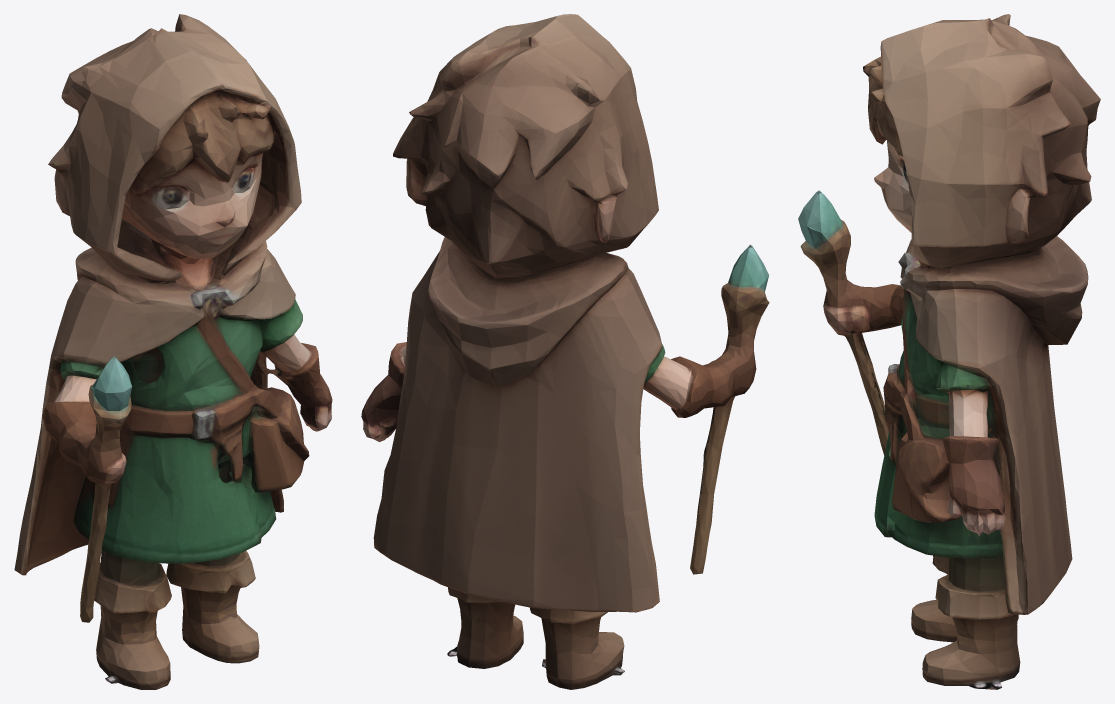
The model's file is Zelda.glb.
3 views of the same model, side by side, from view 1: azimuth 30°, elevation 25°; view 2: azimuth 150°, elevation 25°; view 3: azimuth 270°, elevation 25° (orthographic).
Parts seen in each view (by area): view 1: world; view 2: world; view 3: world.
Boxes of the visible parts, box(x1,y1,x2,y2) form: world: box(14, 14, 332, 689); world: box(361, 14, 769, 689); world: box(798, 14, 1100, 689).
Bounding box in the file's own units: 0.4138 × 0.7824 × 0.3387.
1 material, 1 textured.
